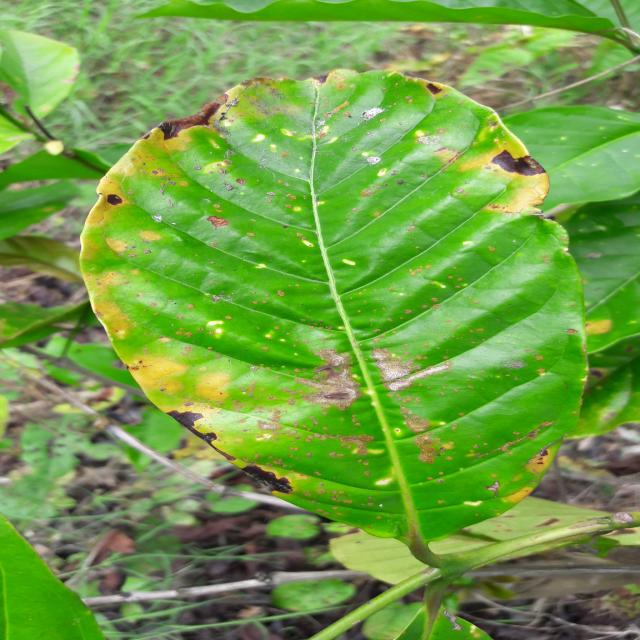Enfermedad-Roya: (79, 70, 588, 560)
